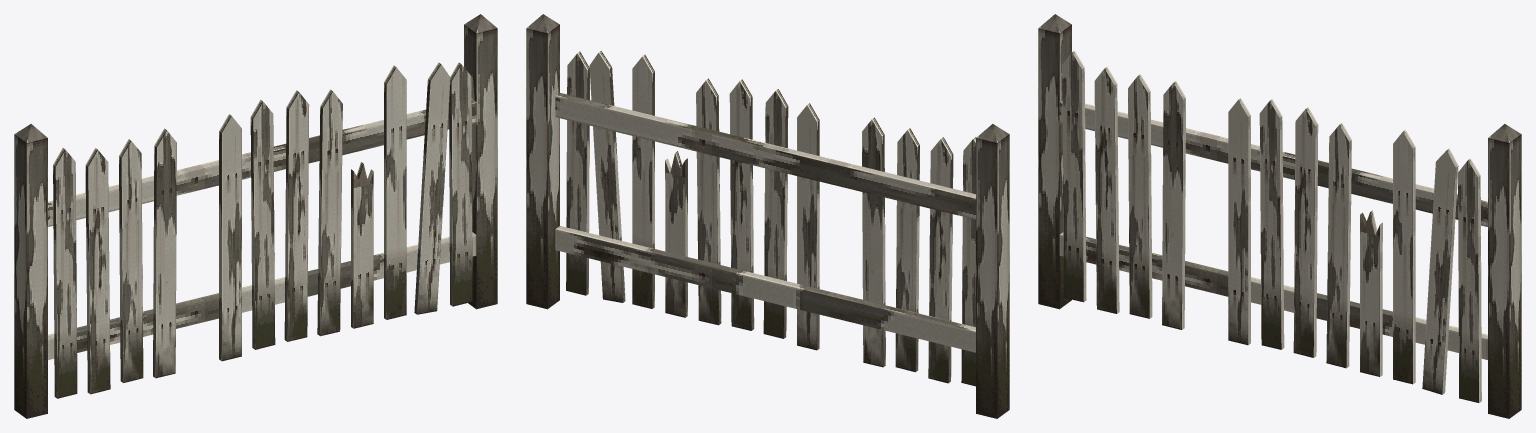
File: fence_wooden.glb
3 renders of one model, left to right at view 1: azimuth 30°, elevation 25°; view 2: azimuth 150°, elevation 25°; view 3: azimuth 330°, elevation 25°, orthographic.
Visible parts, largest first — view 1: fence_wooden; view 2: fence_wooden; view 3: fence_wooden.
Boxes of the visible parts, x1=… form: fence_wooden: x1=14, y1=14, x2=497, y2=418; fence_wooden: x1=526, y1=14, x2=1009, y2=418; fence_wooden: x1=1038, y1=14, x2=1521, y2=418.
Bounding box in the file's own units: 2 × 1.17 × 0.114.
1 material, 1 textured.
